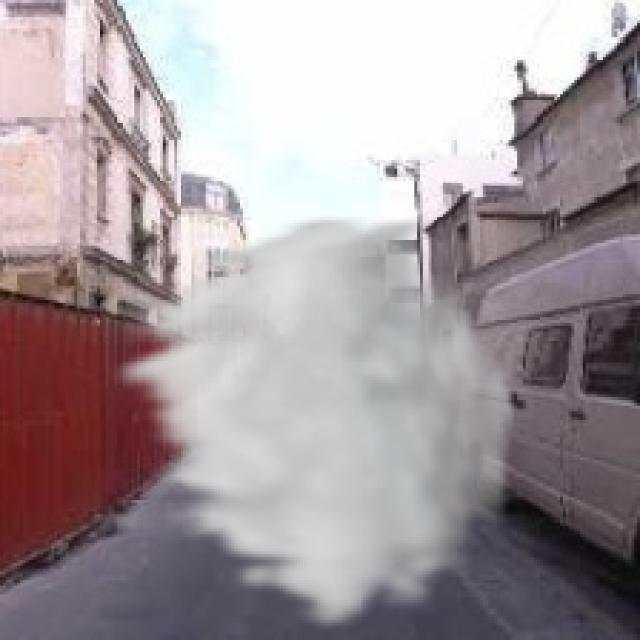Smoke: (100, 212, 526, 634)
